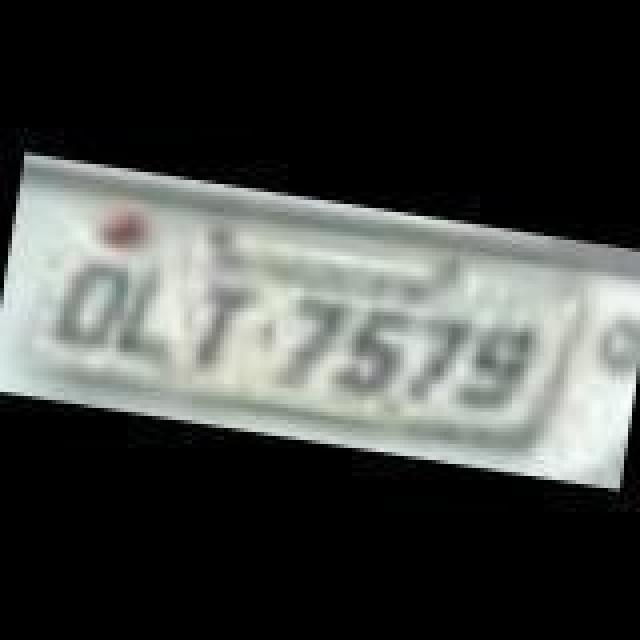5: (330, 300, 414, 404)
7: (394, 306, 470, 406), (274, 296, 342, 392)
9: (454, 316, 538, 420)
L: (114, 266, 190, 366)
O: (46, 252, 130, 356)
T: (190, 278, 258, 378)
